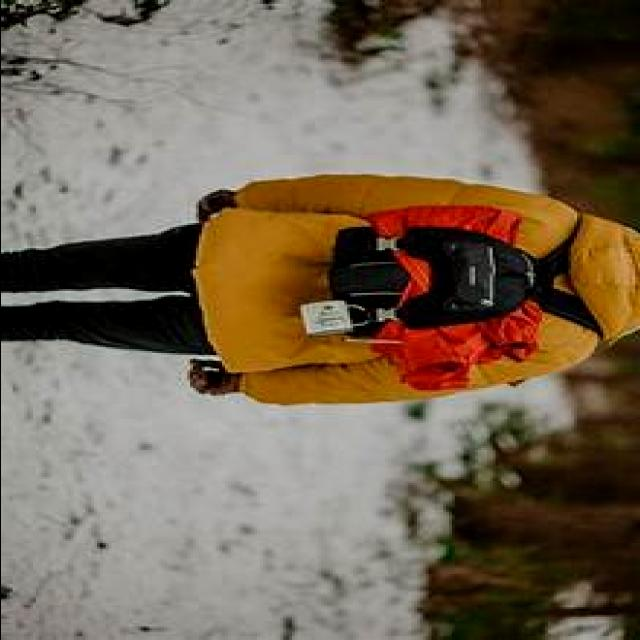backpack: (330, 217, 604, 341)
